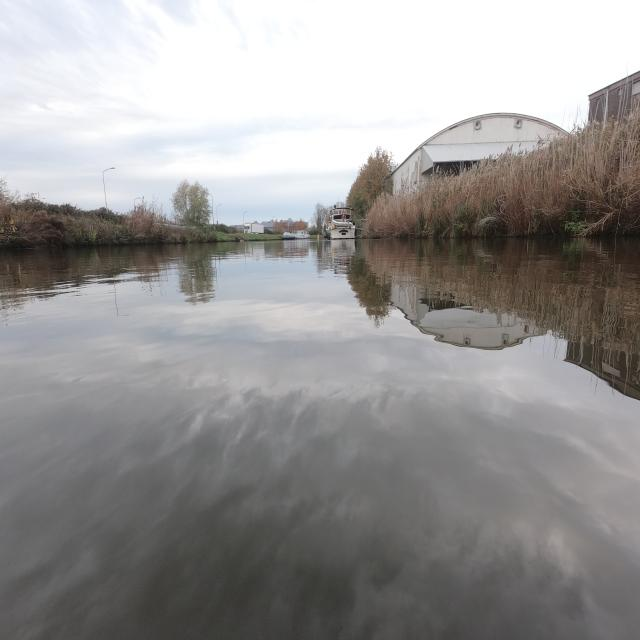boat: (324, 207, 355, 239), (284, 231, 308, 239)
reed: (362, 112, 632, 238), (0, 195, 207, 247)
sky: (1, 1, 639, 222)
water: (1, 237, 639, 639)
